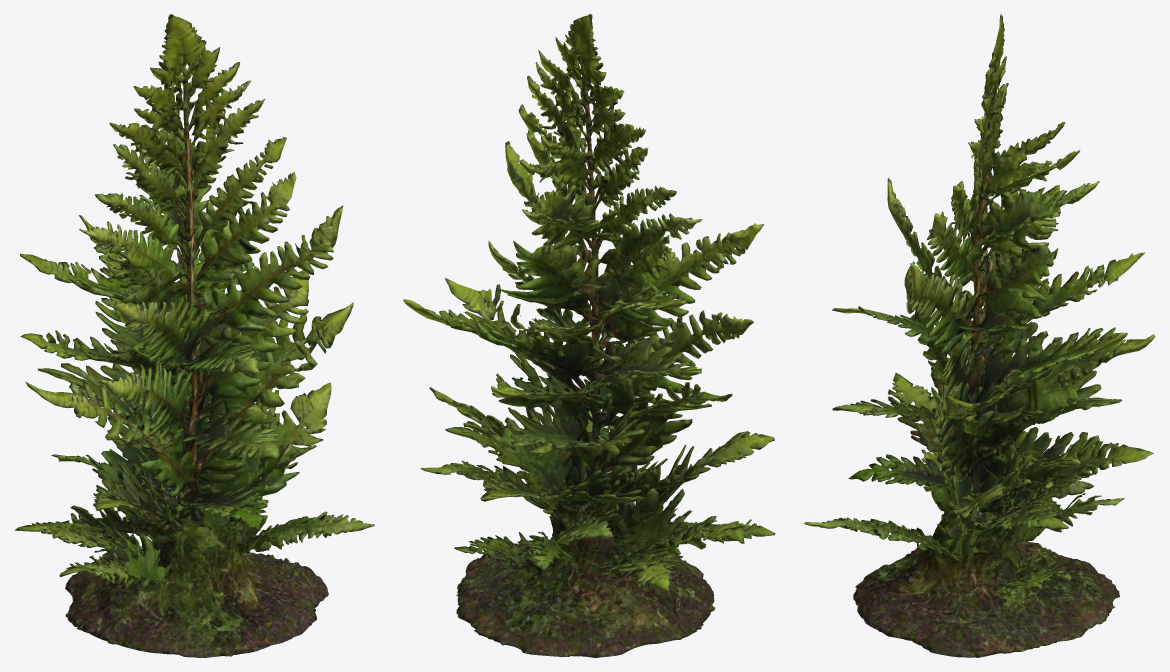
File: A_majestic_forest_fer.glb
The picture shows the model from 3 angles, left to right: view 1: azimuth 30°, elevation 25°; view 2: azimuth 150°, elevation 25°; view 3: azimuth 270°, elevation 25°; orthographic projection. The views are drawn at different scales.
Parts seen in each view (by area): view 1: A_majestic_forest_fer; view 2: A_majestic_forest_fer; view 3: A_majestic_forest_fer.
Boxes of the visible parts, <box> form: A_majestic_forest_fer: <box>14,14,374,657</box>; A_majestic_forest_fer: <box>403,14,775,657</box>; A_majestic_forest_fer: <box>804,14,1155,657</box>.
Bounding box in the file's own units: 1.08 × 1.9 × 1.05.
1 material, 1 textured.
